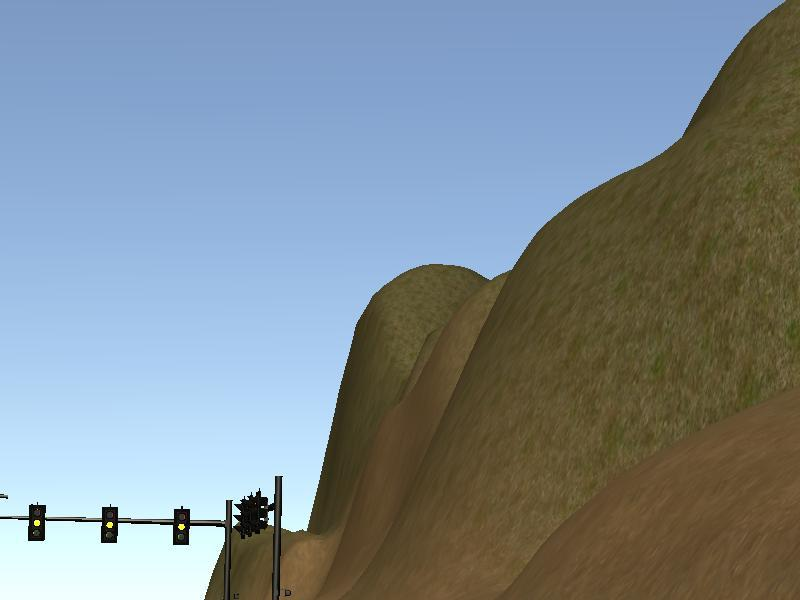Yellow: (172, 507, 189, 545), (100, 507, 117, 545), (27, 505, 44, 543)
